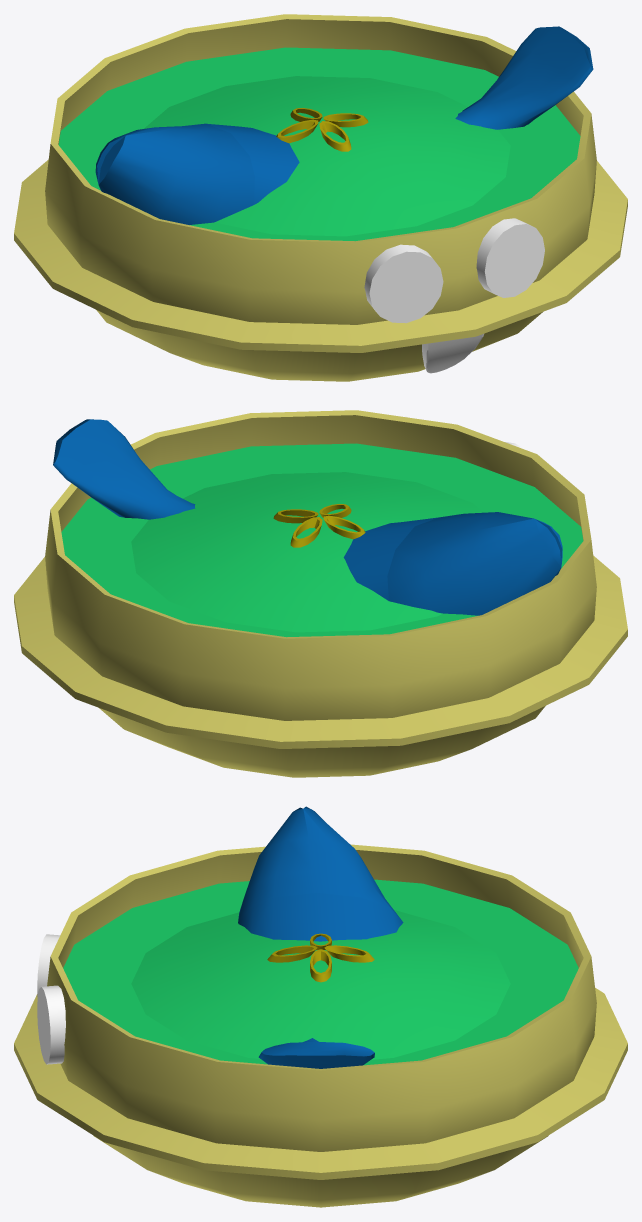
The model's file is Maeuntangkkaebi.fbx.
3 views of the same model, one above another, from view 1: azimuth 30°, elevation 25°; view 2: azimuth 150°, elevation 25°; view 3: azimuth 270°, elevation 25° (orthographic).
Parts seen in each view (by area): view 1: 2_Maeuntangkkaebi; view 2: 2_Maeuntangkkaebi; view 3: 2_Maeuntangkkaebi.
Part boxes in pixels (box(x1,y1,x2,y2)): 2_Maeuntangkkaebi: box(14, 14, 627, 381); 2_Maeuntangkkaebi: box(14, 410, 627, 777); 2_Maeuntangkkaebi: box(14, 806, 627, 1207).
Bounding box in the file's own units: 62.78 × 62.78 × 26.71.
